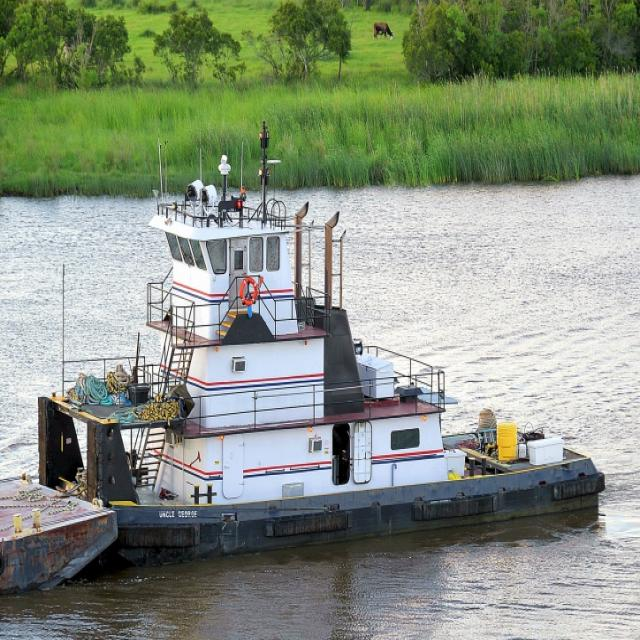tugboat: (27, 117, 612, 558)
